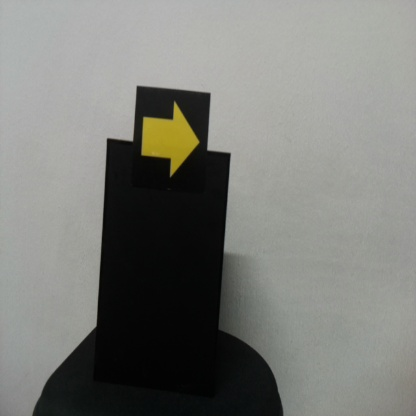id_3: (136, 87, 209, 189)
